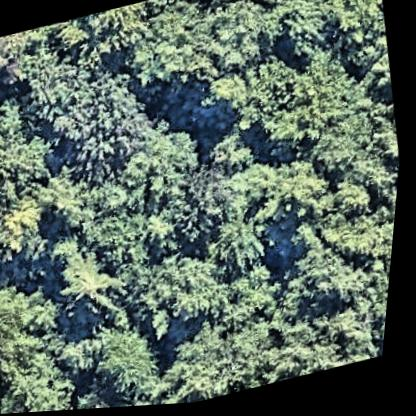tree-top: (271, 174, 403, 312), (33, 68, 165, 181), (156, 310, 295, 407), (260, 51, 365, 162), (275, 293, 394, 385), (73, 175, 170, 277), (137, 247, 236, 335), (0, 262, 73, 379), (123, 0, 214, 90), (216, 52, 305, 142), (123, 115, 215, 202), (316, 102, 404, 189), (0, 86, 62, 209), (161, 154, 246, 242), (188, 0, 276, 81), (91, 320, 175, 404), (249, 155, 336, 236), (23, 160, 104, 243), (267, 0, 381, 58), (216, 259, 299, 338), (0, 346, 87, 415), (56, 246, 130, 323), (0, 184, 61, 272), (205, 214, 280, 285), (77, 1, 158, 62), (0, 25, 52, 103), (37, 383, 161, 413), (357, 276, 395, 365)
